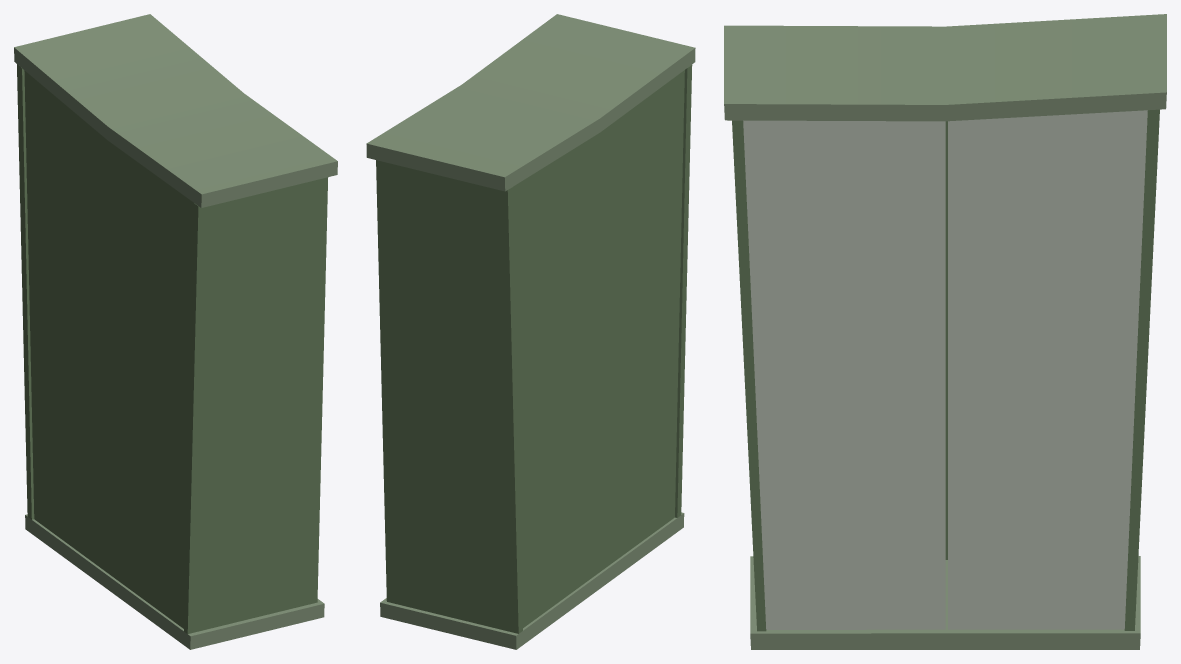
The model's file is childerns room shalf.fbx.
The picture shows the model from 3 angles, left to right: view 1: azimuth 30°, elevation 25°; view 2: azimuth 150°, elevation 25°; view 3: azimuth 270°, elevation 25°; orthographic projection. The views are drawn at different scales.
Visible parts, largest first — view 1: stuff children shalf; view 2: stuff children shalf; view 3: stuff children shalf.002, stuff children shalf.001, stuff children shalf.
Boxes of the visible parts, x1,y1,x2,y2 form: stuff children shalf: (14,14,337,649); stuff children shalf: (366,14,695,649); stuff children shalf.002: (743,120,945,629); stuff children shalf.001: (948,110,1147,629); stuff children shalf: (724,14,1166,649).
Size of the model in its own units: 1.1 by 3.64 by 2.62.
